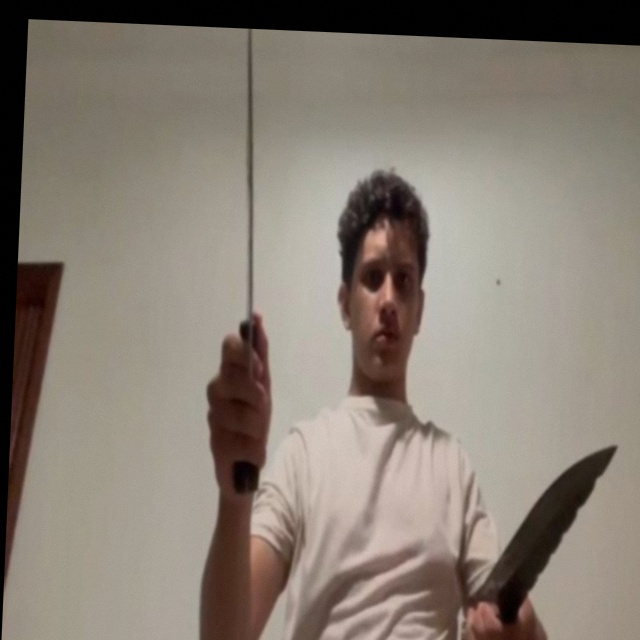Sharp-Object: (476, 435, 619, 606), (230, 38, 268, 373)
